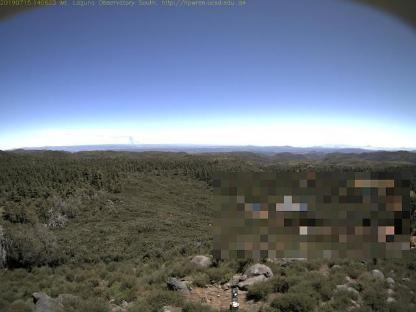smoke: (124, 133, 138, 145)
